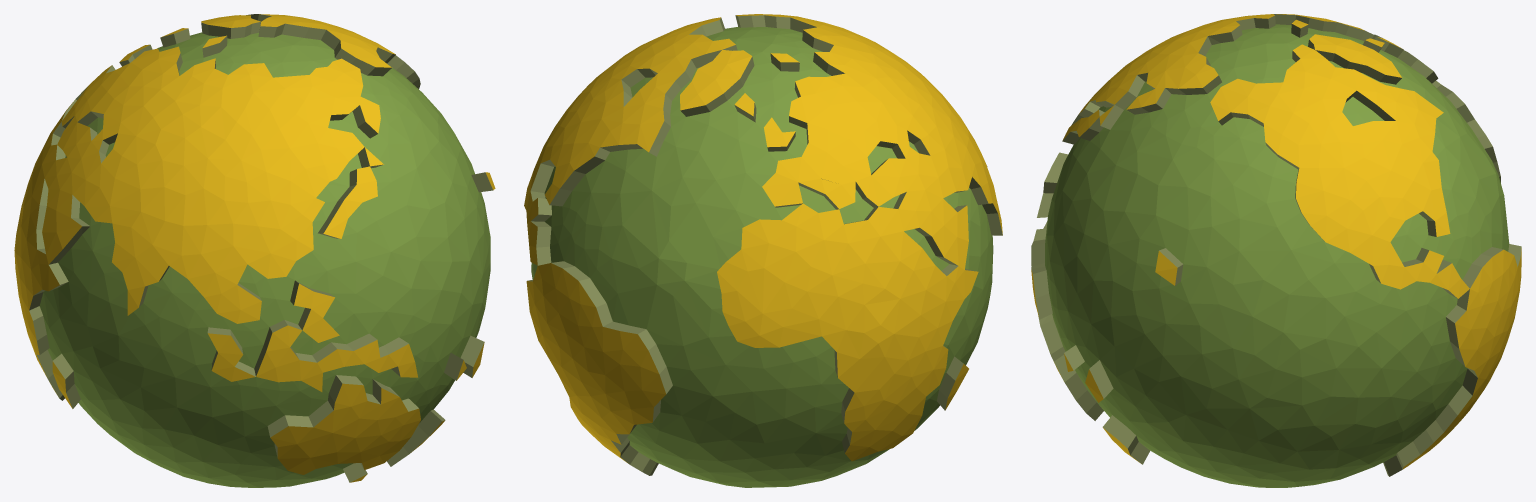
Rendered from Earth3.fbx.
3 renders of one model, left to right at view 1: azimuth 30°, elevation 25°; view 2: azimuth 150°, elevation 25°; view 3: azimuth 270°, elevation 25°, orthographic.
Parts seen in each view (by area): view 1: Sphere; view 2: Sphere; view 3: Sphere.
Part boxes in pixels (x1,y1,x2,y2): Sphere: (14,14,495,487); Sphere: (524,14,1002,487); Sphere: (1031,14,1521,487).
Bounding box in the file's own units: 204 × 203 × 211.
